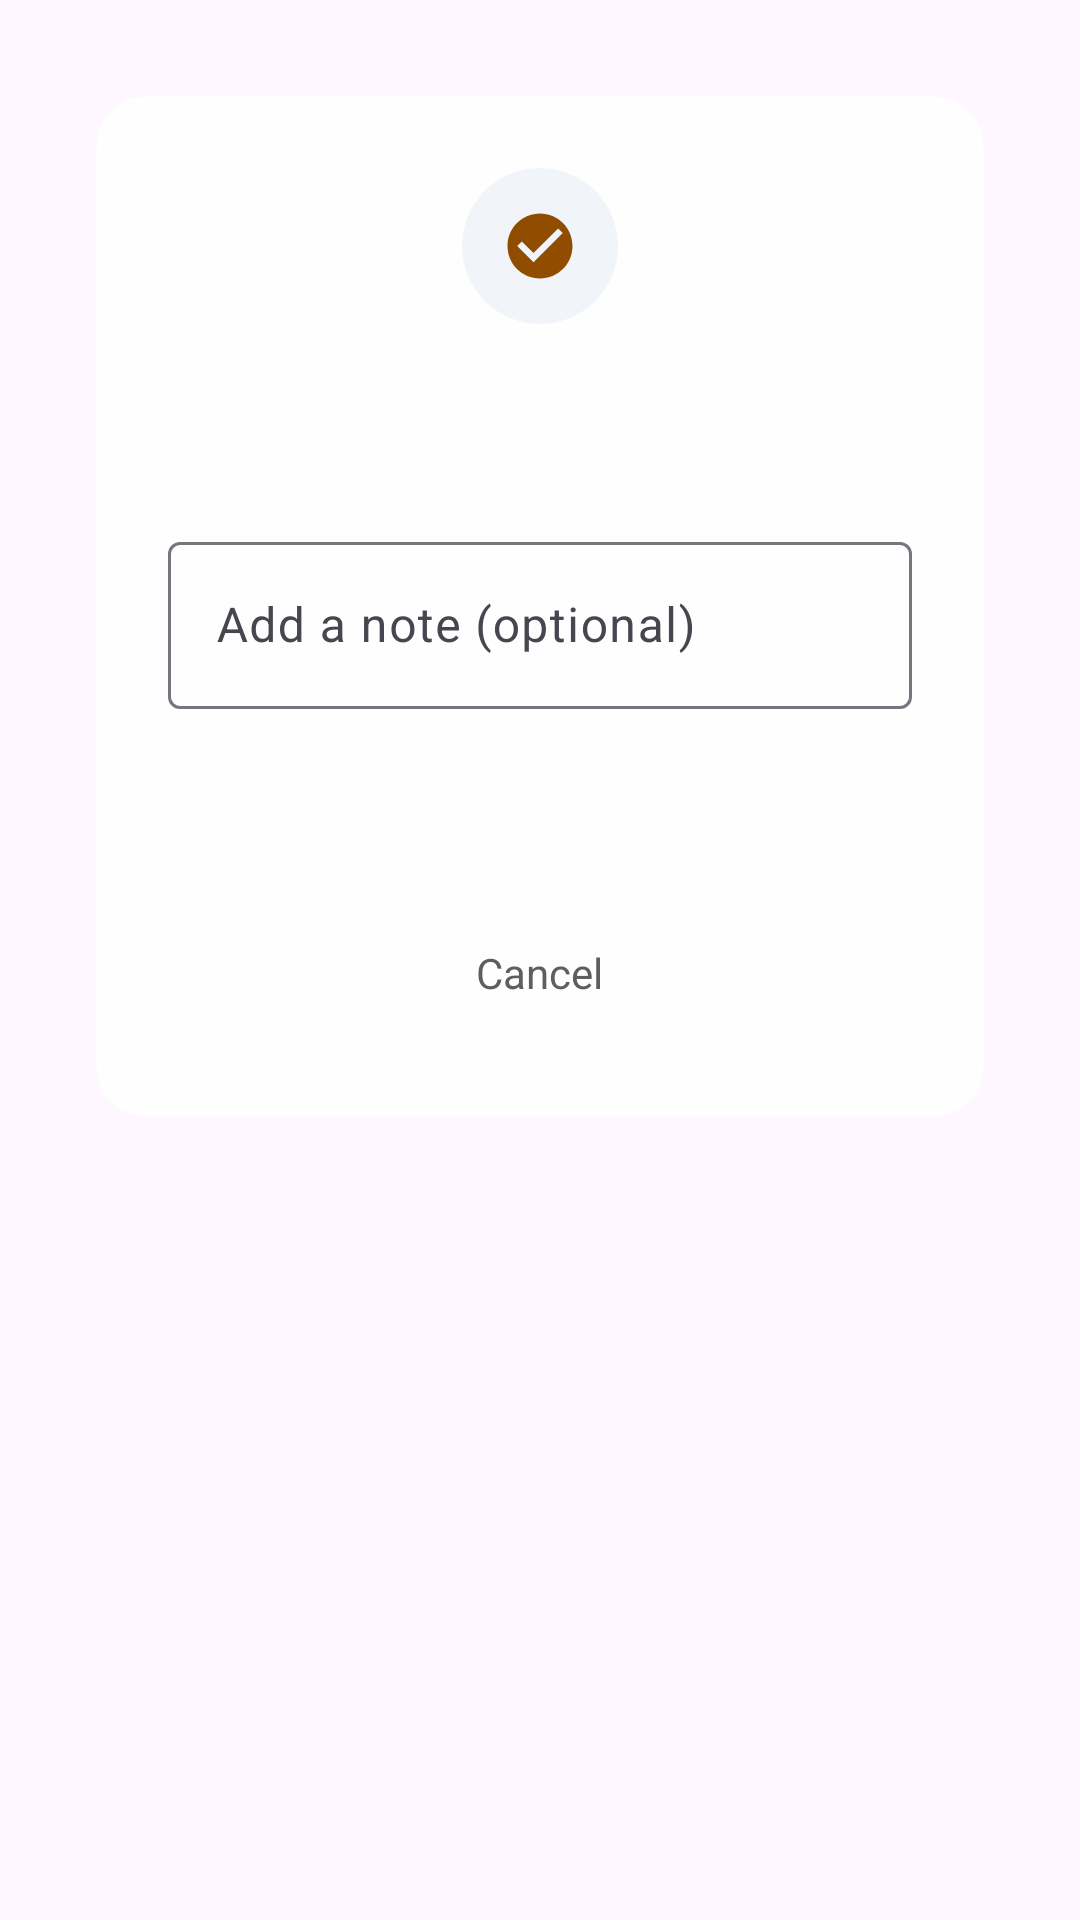

Screen size 1080×1920. Icon name, then its box in pixels as (left=x1, top=y1, right=x2, bottom=y2):
check circle: (left=507, top=213, right=573, bottom=279)
